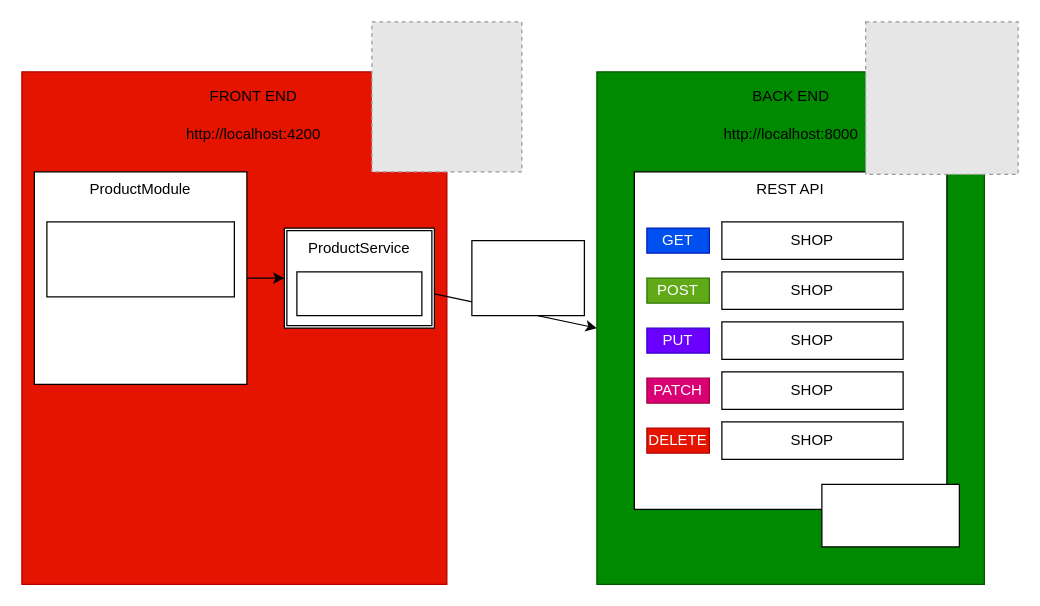
This 1040x606 diagram has some shape labels left out. Grey dashed boxes stand in for pictures. The centre of each missing label's shape, as x and y in pixels:
API Endpoints: the point at 890,515
HTTP / HTTPS Protocol: the point at 527,277
HttpClient: the point at 359,293
ProductCardComponent: the point at 140,259
